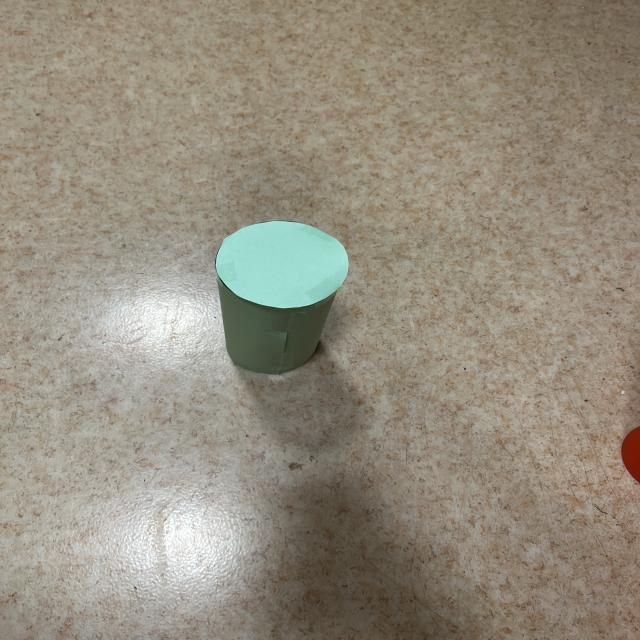meta: (216, 221, 348, 375)
